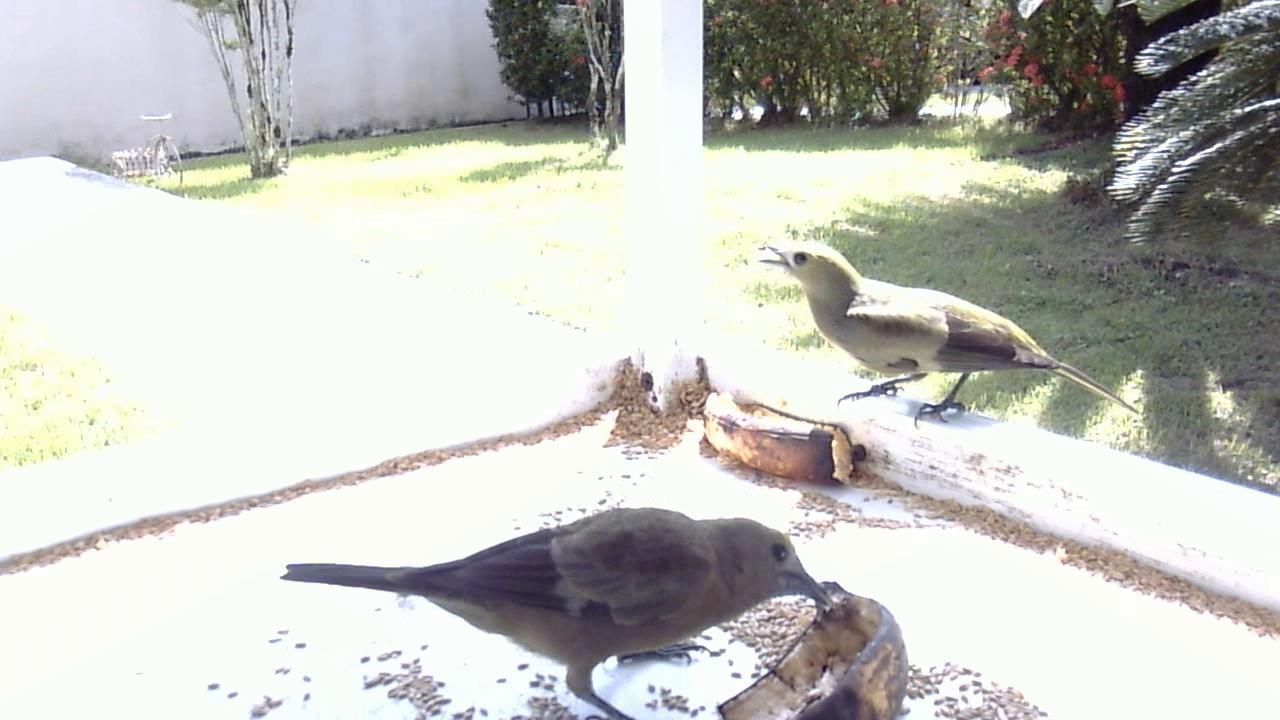sanhaco_do_coqueiro: (269, 474, 857, 720), (747, 237, 1123, 442)
